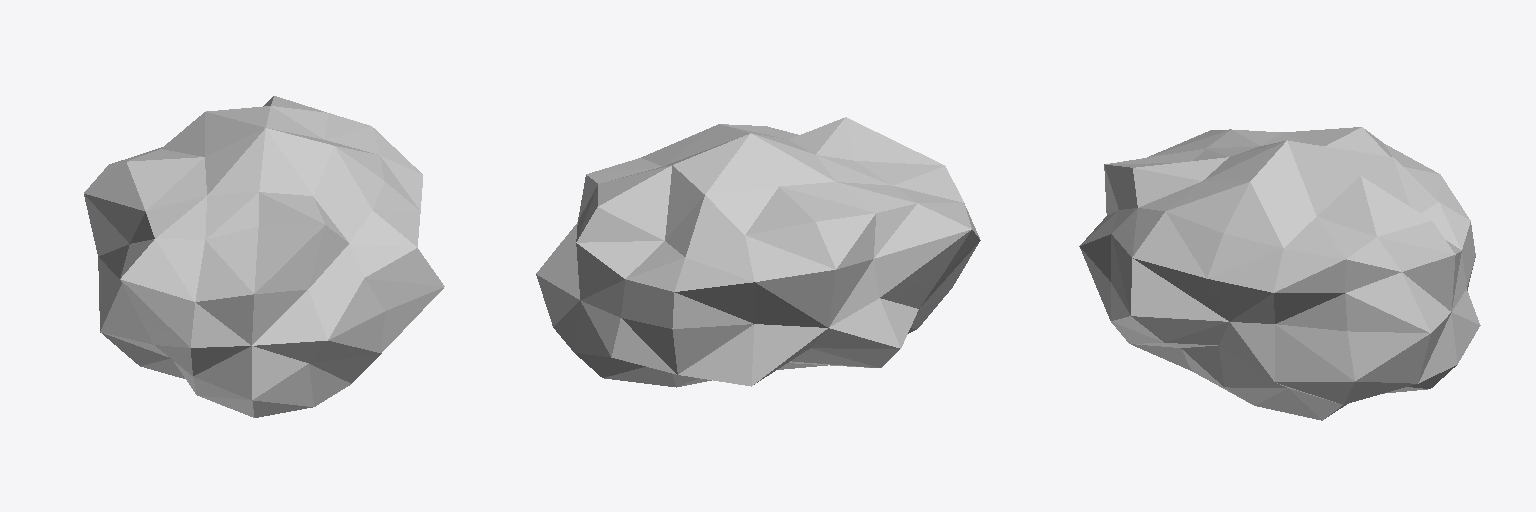
The model's file is Explosion2.obj.
The picture shows the model from 3 angles: view 1: azimuth 30°, elevation 25°; view 2: azimuth 150°, elevation 25°; view 3: azimuth 270°, elevation 25°; orthographic projection.
Parts seen in each view (by area): view 1: cloud.001; view 2: cloud.001; view 3: cloud.001.
Boxes of the visible parts, box(x1,y1,x2,y2) form: cloud.001: box(84, 96, 444, 417); cloud.001: box(536, 117, 980, 387); cloud.001: box(1079, 127, 1480, 420).
Bounding box in the file's own units: 194 × 133 × 199.